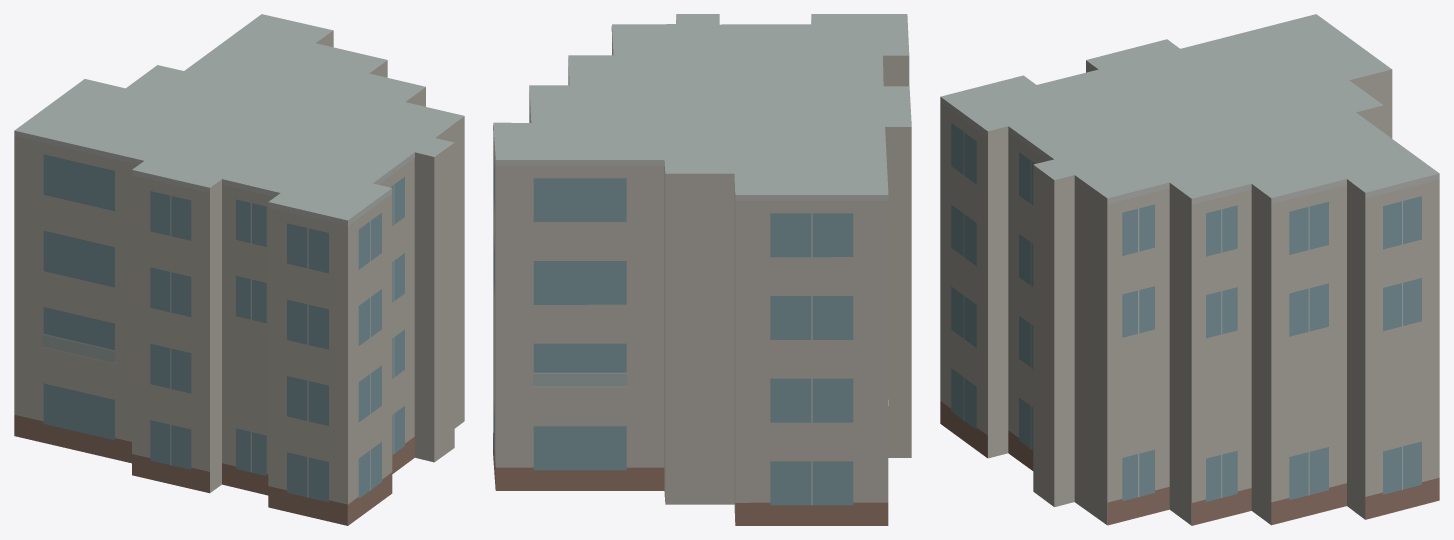
Rendered from survey-upis-32647688.glb.
3 renders of one model, left to right at view 1: azimuth 30°, elevation 25°; view 2: azimuth 150°, elevation 25°; view 3: azimuth 270°, elevation 25°, orthographic. The views are drawn at different scales.
Visible parts, largest first — view 1: survey-upis-32647688.tmp; view 2: survey-upis-32647688.tmp; view 3: survey-upis-32647688.tmp.
Part boxes in pixels (x1,y1,x2,y2): survey-upis-32647688.tmp: [14, 14, 464, 525]; survey-upis-32647688.tmp: [493, 14, 911, 525]; survey-upis-32647688.tmp: [940, 14, 1439, 525].
Bounding box in the file's own units: 16.31 × 13.45 × 18.62.
